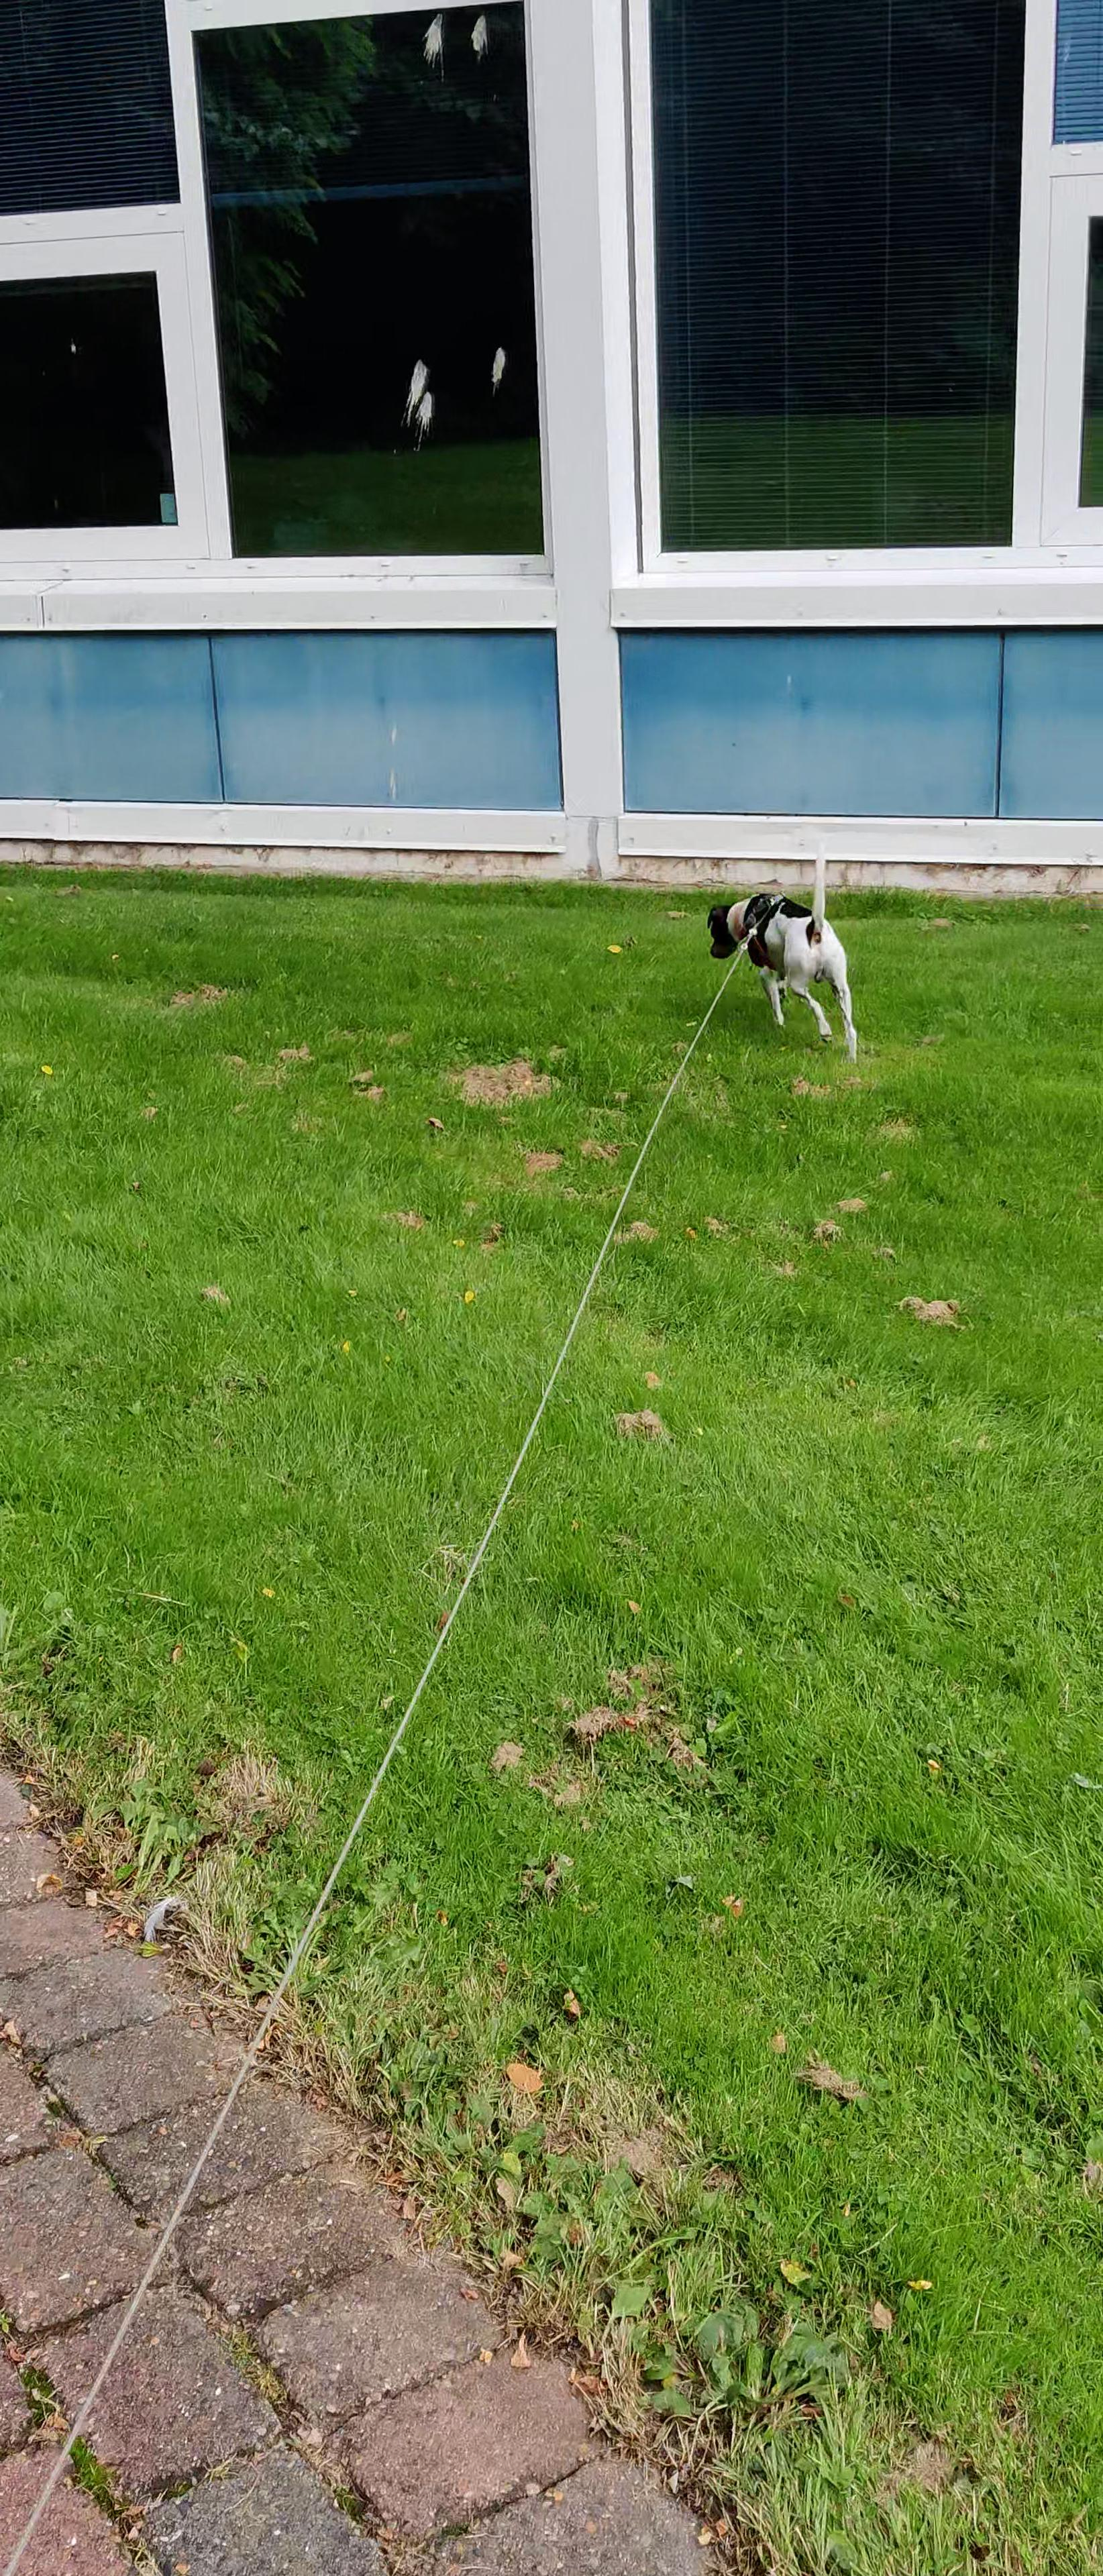Dog: (705, 836, 865, 1066)
